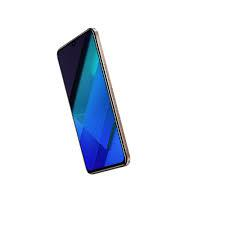Smartphone: (50, 31, 136, 179)
